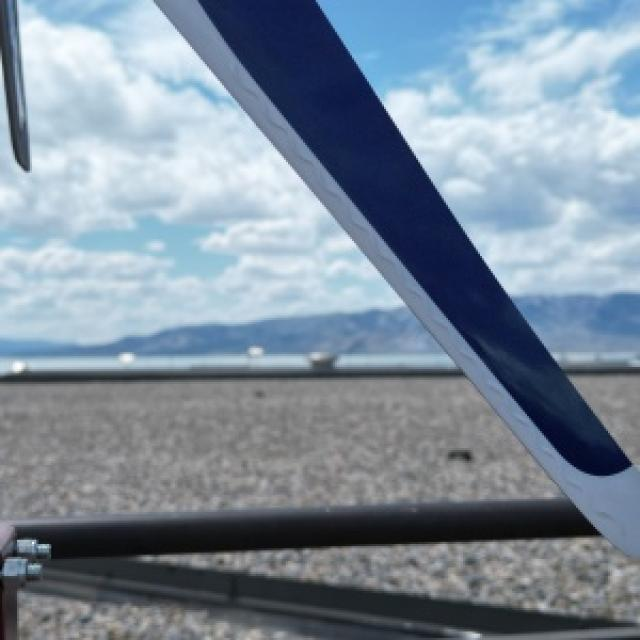healthy: (19, 593, 262, 638)
